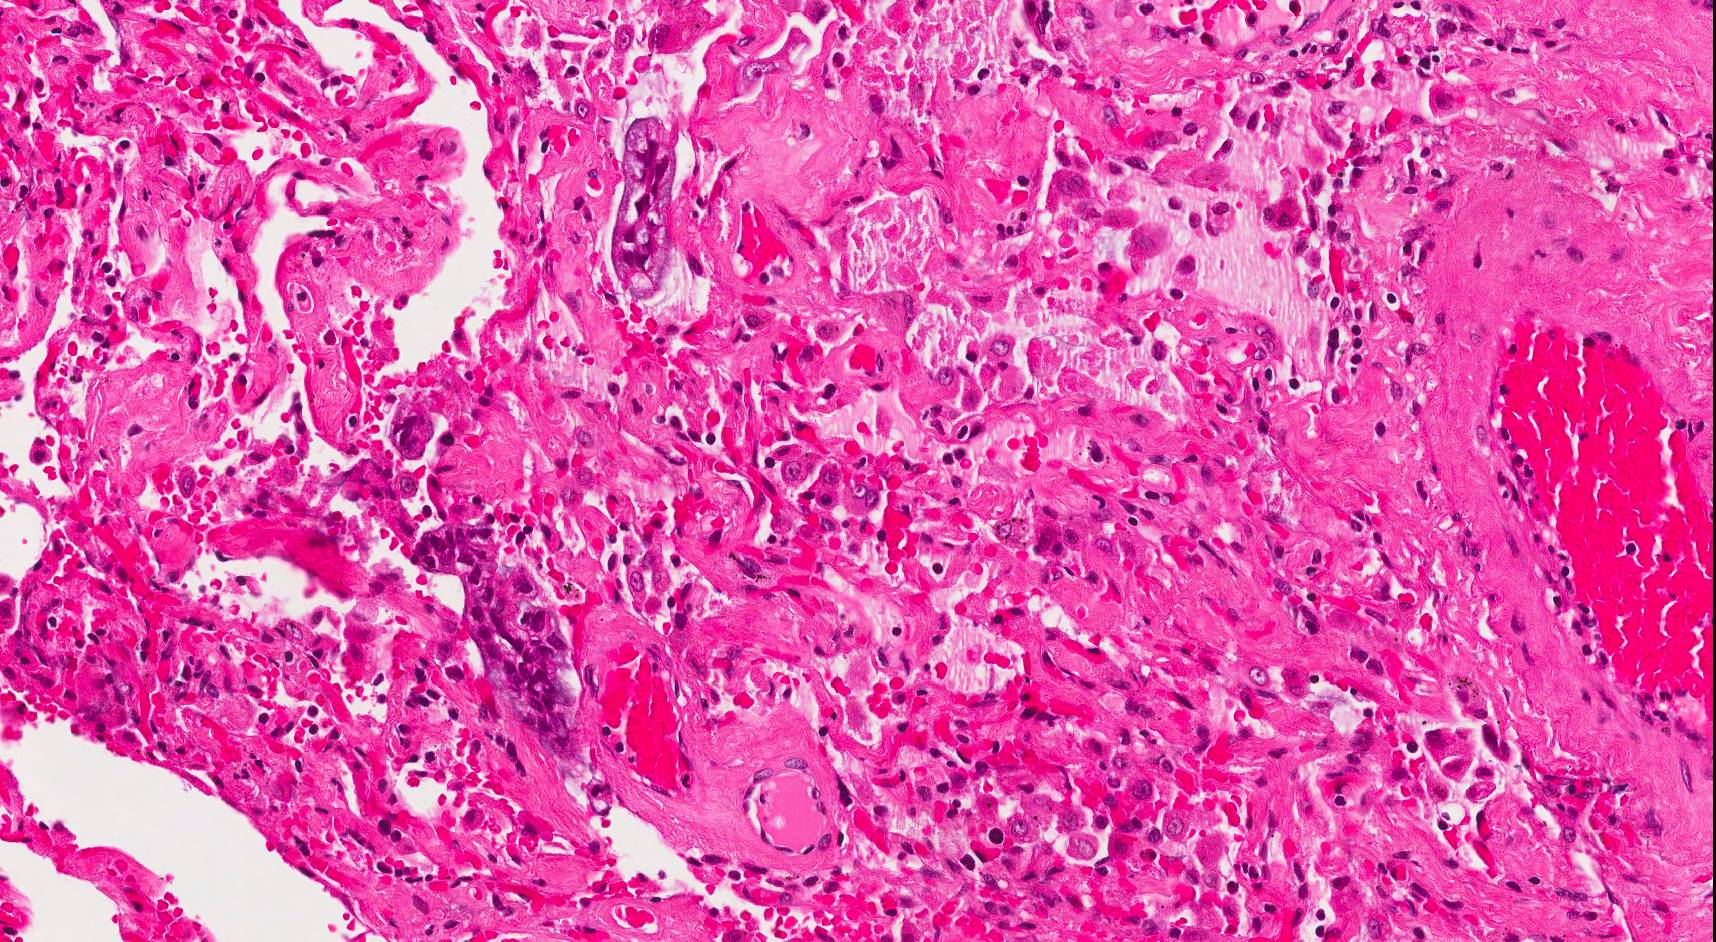stas: (409, 523, 583, 746), (608, 114, 678, 300), (386, 396, 434, 460)
